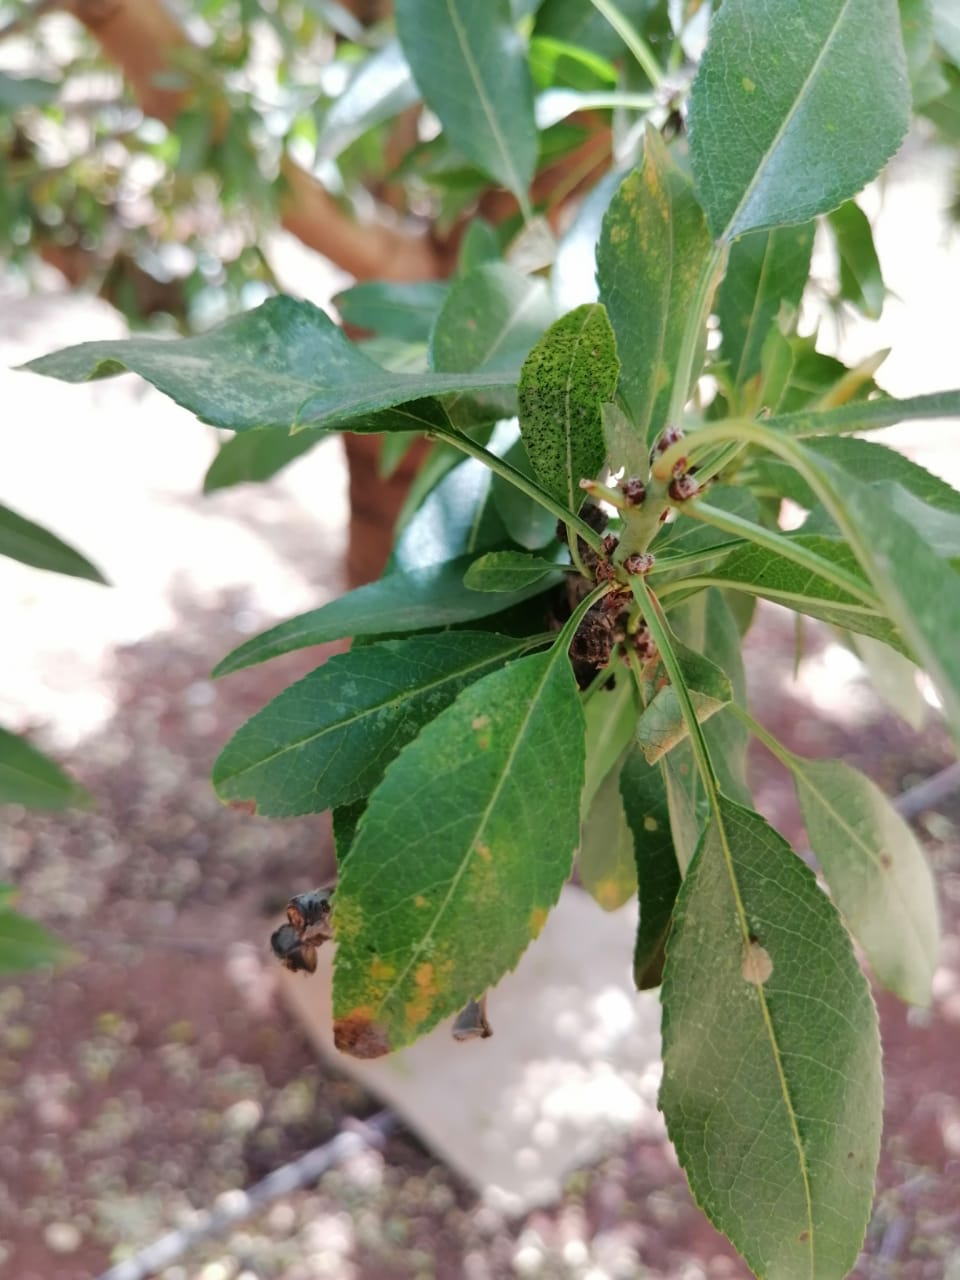faux tigre: (657, 794, 884, 1280), (17, 291, 517, 430)
